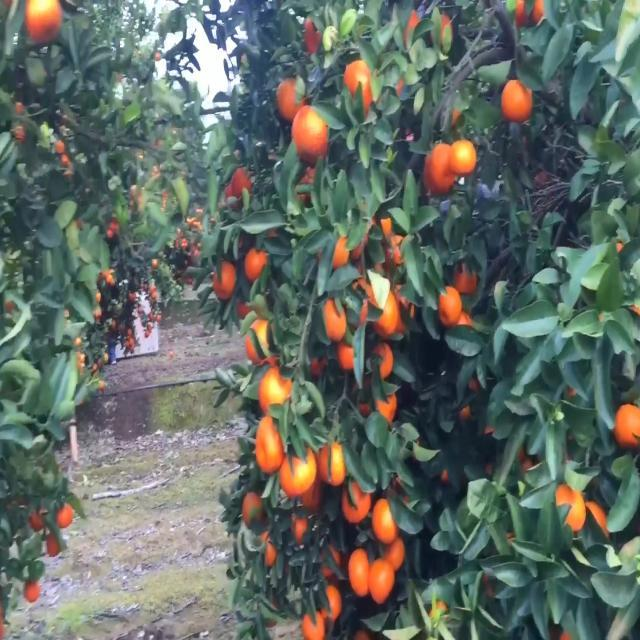Jeruk Sudah Matang: (291, 102, 331, 166), (280, 442, 318, 500), (251, 412, 287, 472), (501, 76, 536, 124), (209, 254, 239, 304), (367, 556, 398, 604), (317, 295, 347, 344), (370, 493, 400, 542), (344, 546, 371, 598), (446, 141, 478, 173), (438, 294, 464, 332), (244, 248, 270, 282)
